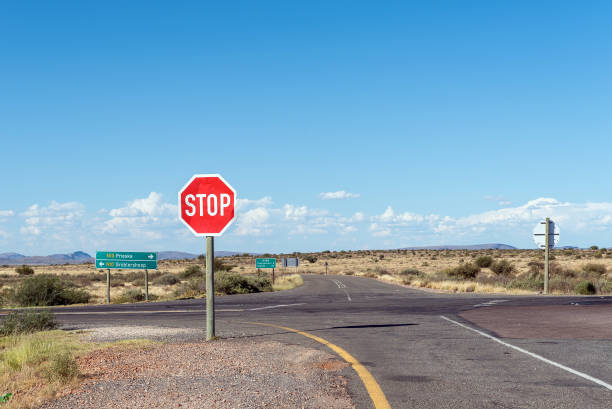StopSign: (177, 174, 236, 236)
